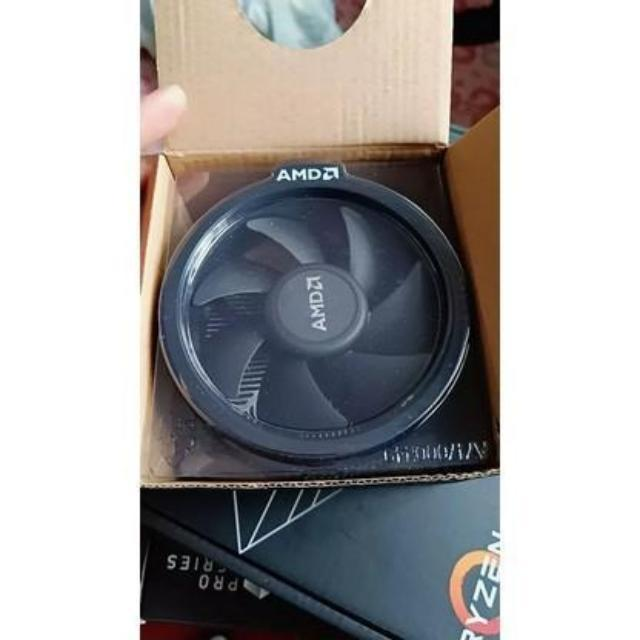CPU_Fan: (157, 168, 469, 458)
